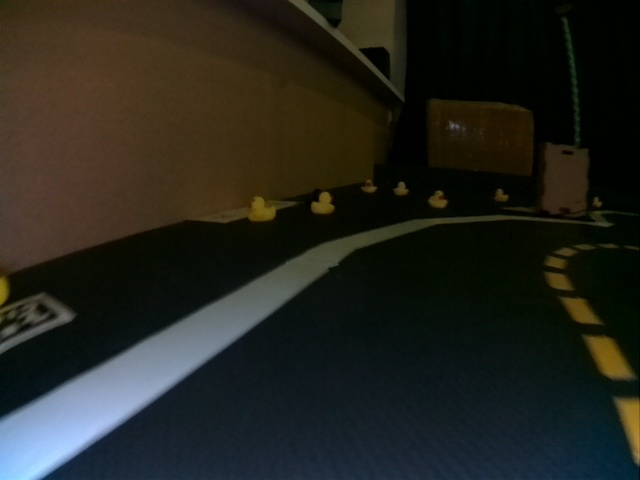Duckie: (248, 196, 275, 220), (311, 192, 334, 214), (428, 191, 447, 208), (394, 181, 408, 196), (361, 180, 377, 192), (495, 189, 508, 201), (592, 197, 602, 207)
QR code: (1, 295, 69, 357)
